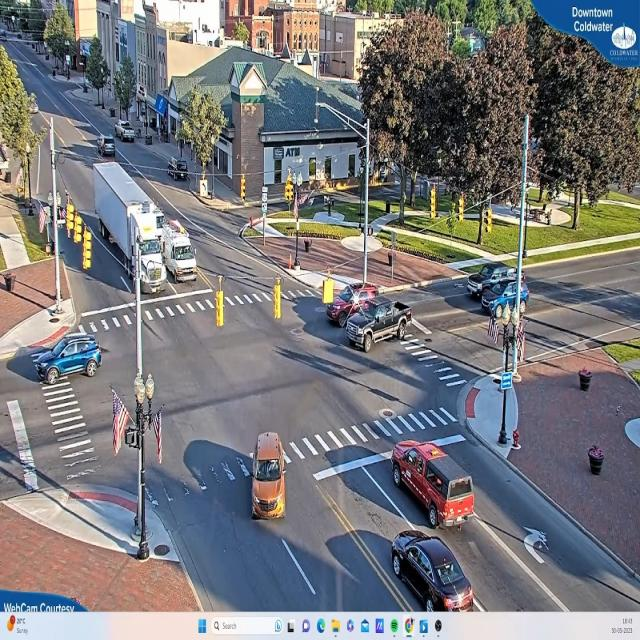car: (391, 439, 477, 530), (391, 530, 482, 612), (343, 297, 417, 352), (32, 334, 103, 385), (254, 431, 290, 520), (469, 266, 528, 308), (120, 125, 136, 144), (100, 138, 114, 156)
truck: (92, 162, 168, 292)
